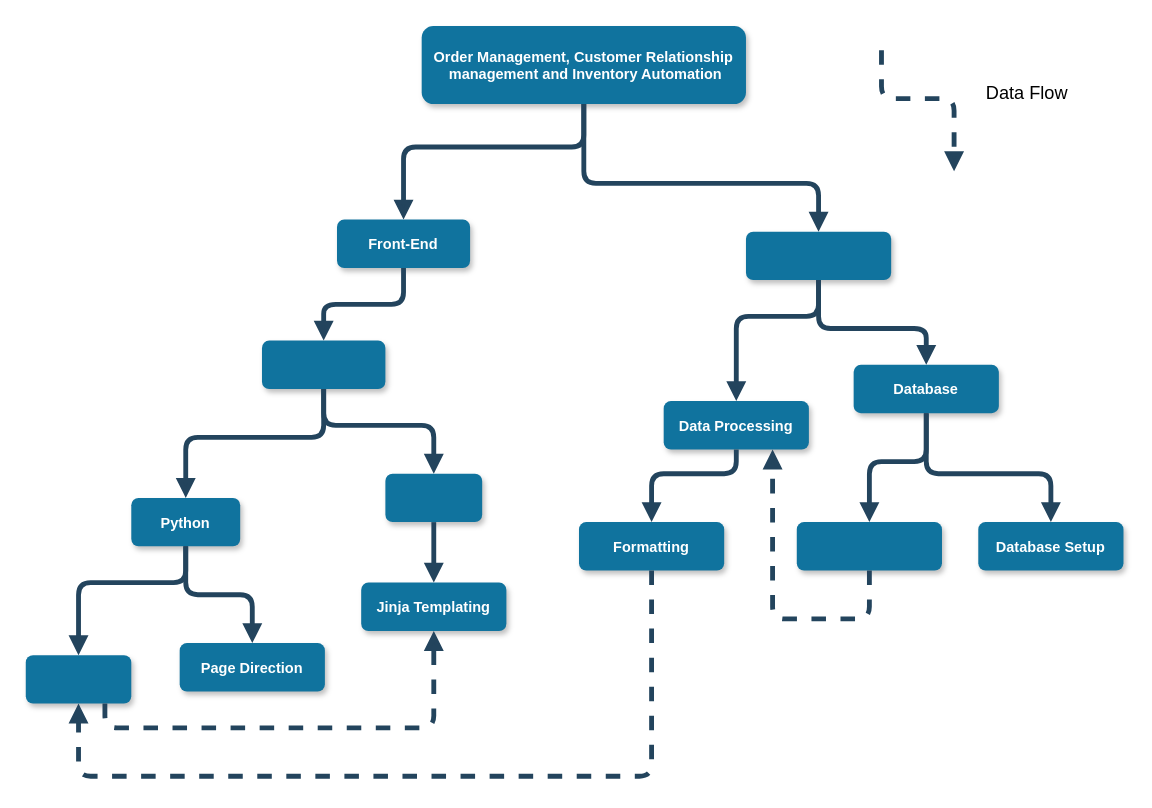
This 1152x808 diagram has some shape labels left out. Here are the shapes that lost their labels. From the top down, the centre of each, then its label:
At point (819, 257): "Back-End".
At point (324, 366): "Web App".
At point (434, 499): "HTML".
At point (870, 547): "Database Access".
At point (79, 680): "Data Input".
